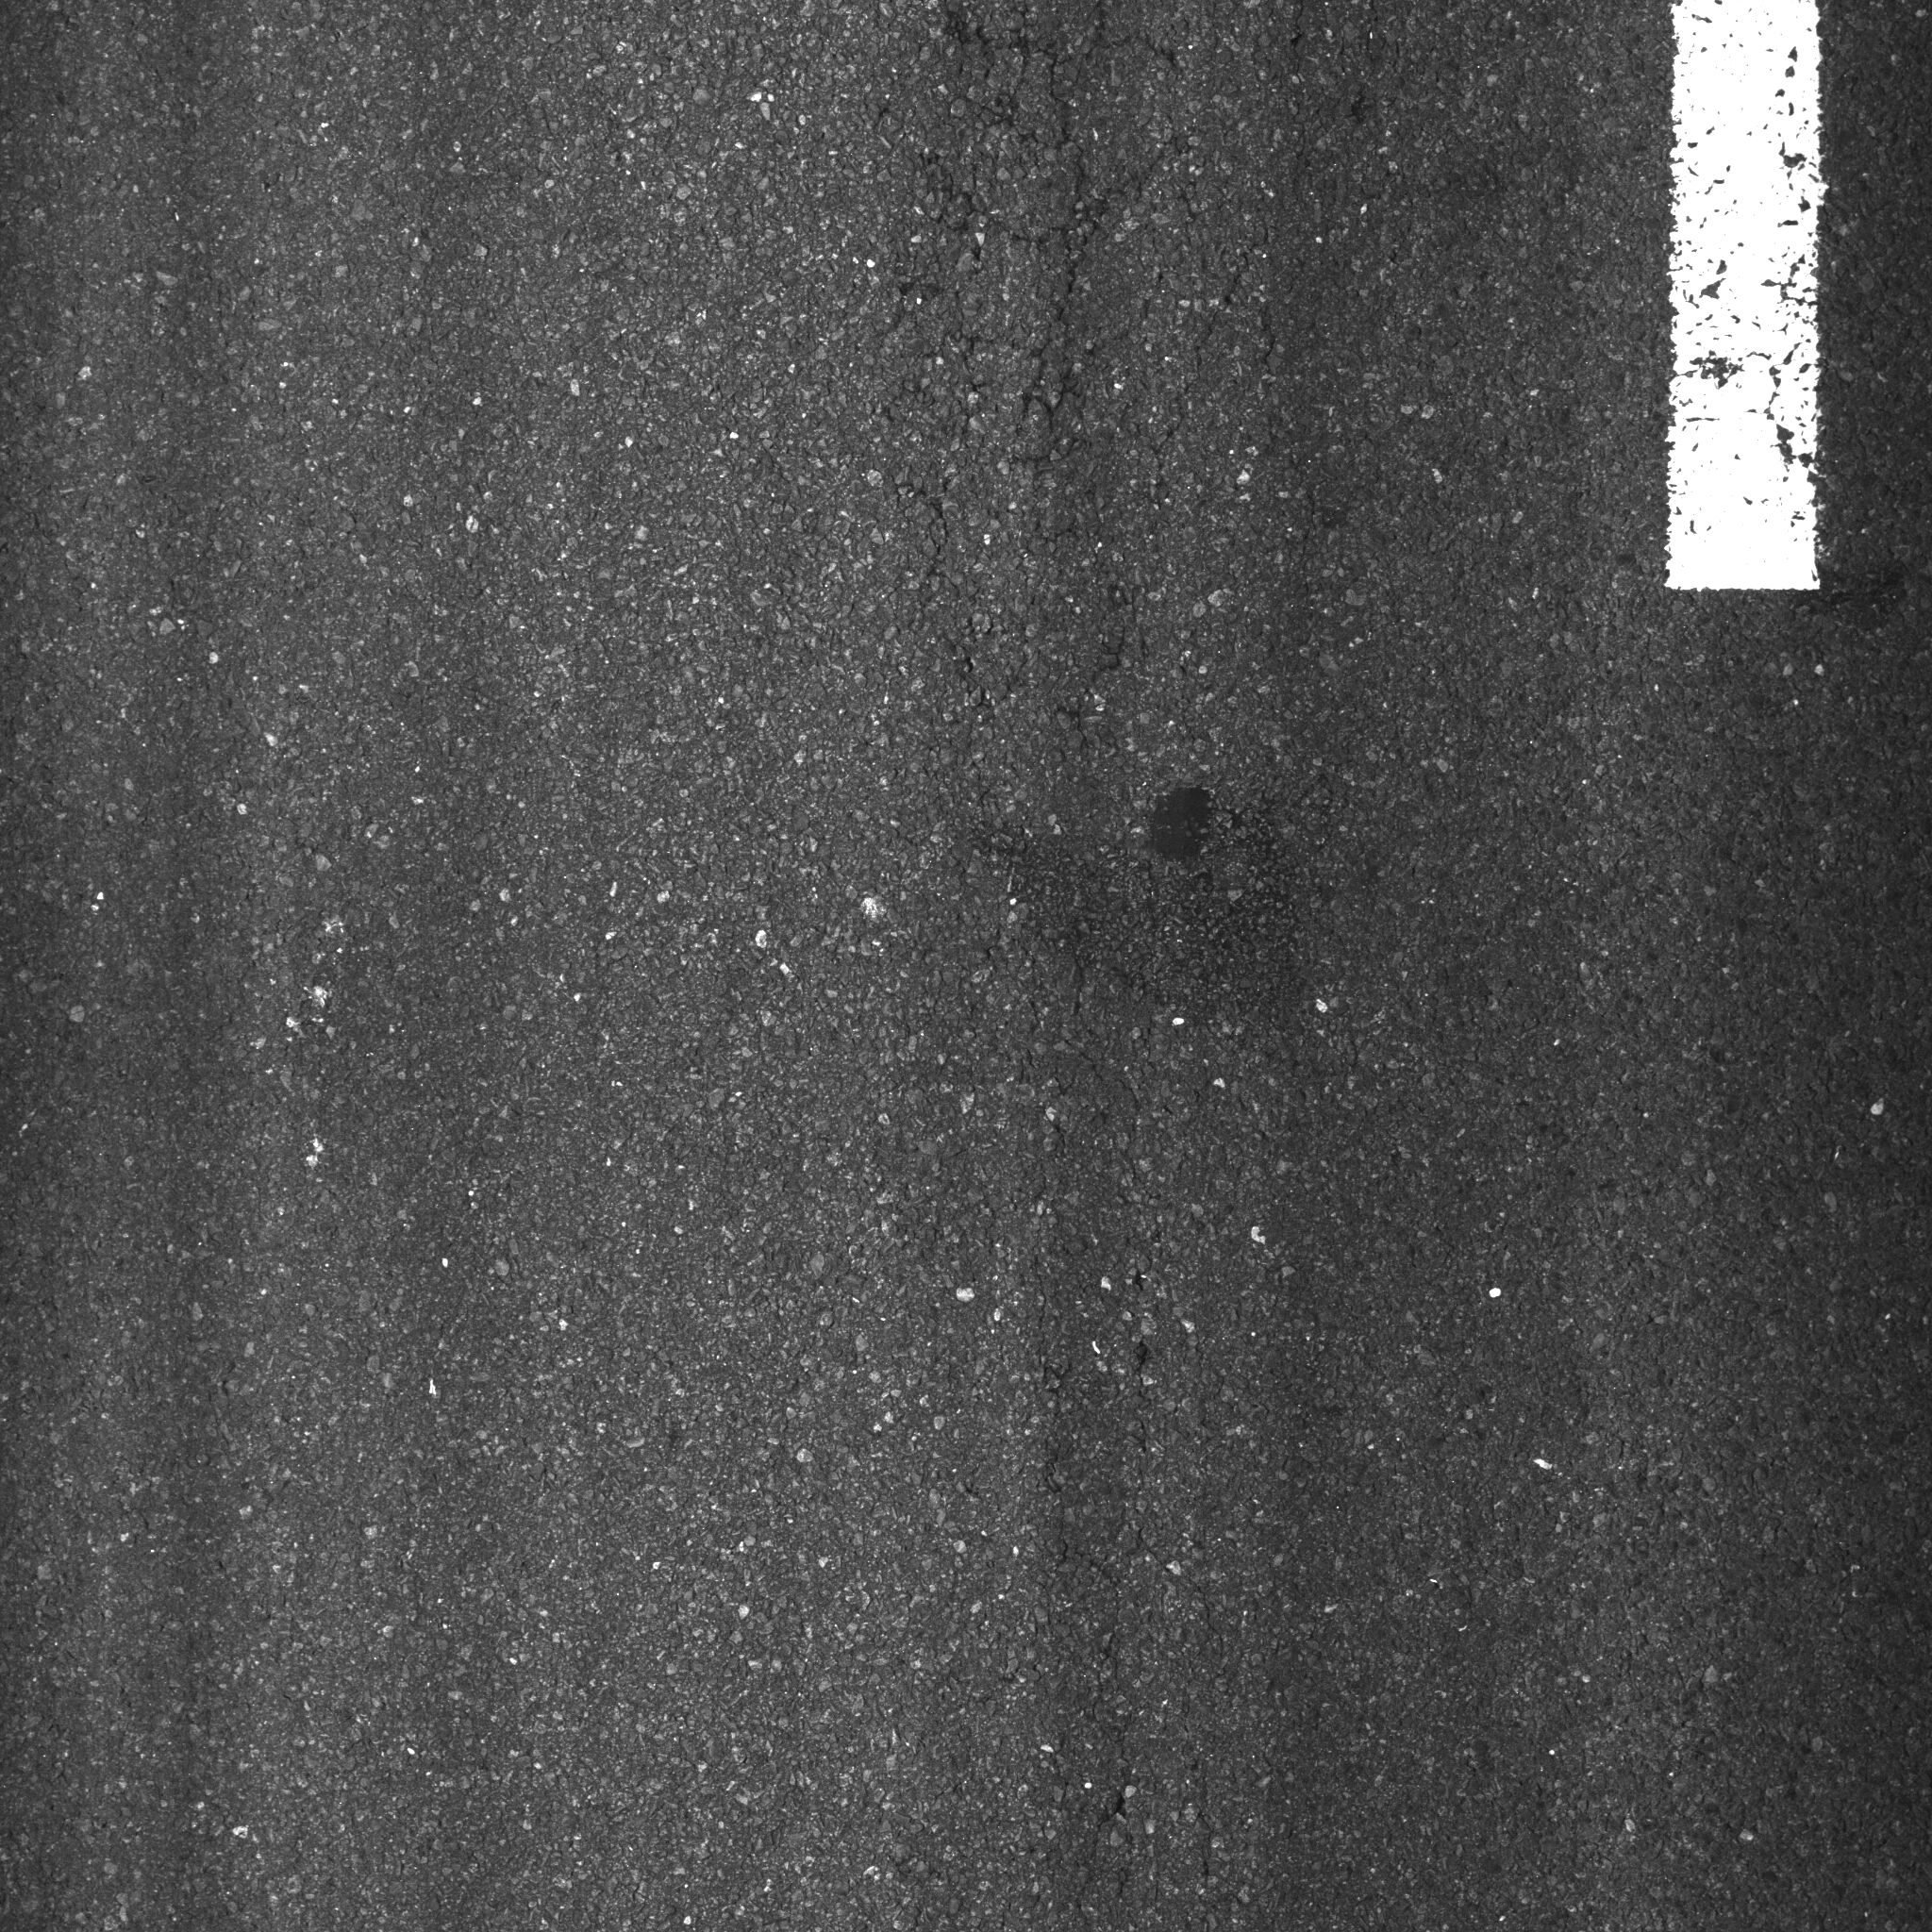alligator: (856, 7, 1491, 755)
